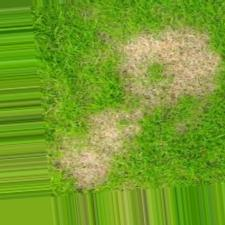patch: (174, 45, 210, 72), (107, 126, 129, 142), (132, 45, 156, 58), (94, 158, 105, 175), (180, 74, 196, 85), (78, 177, 99, 185), (92, 132, 99, 156), (104, 117, 124, 124), (76, 159, 87, 169)
